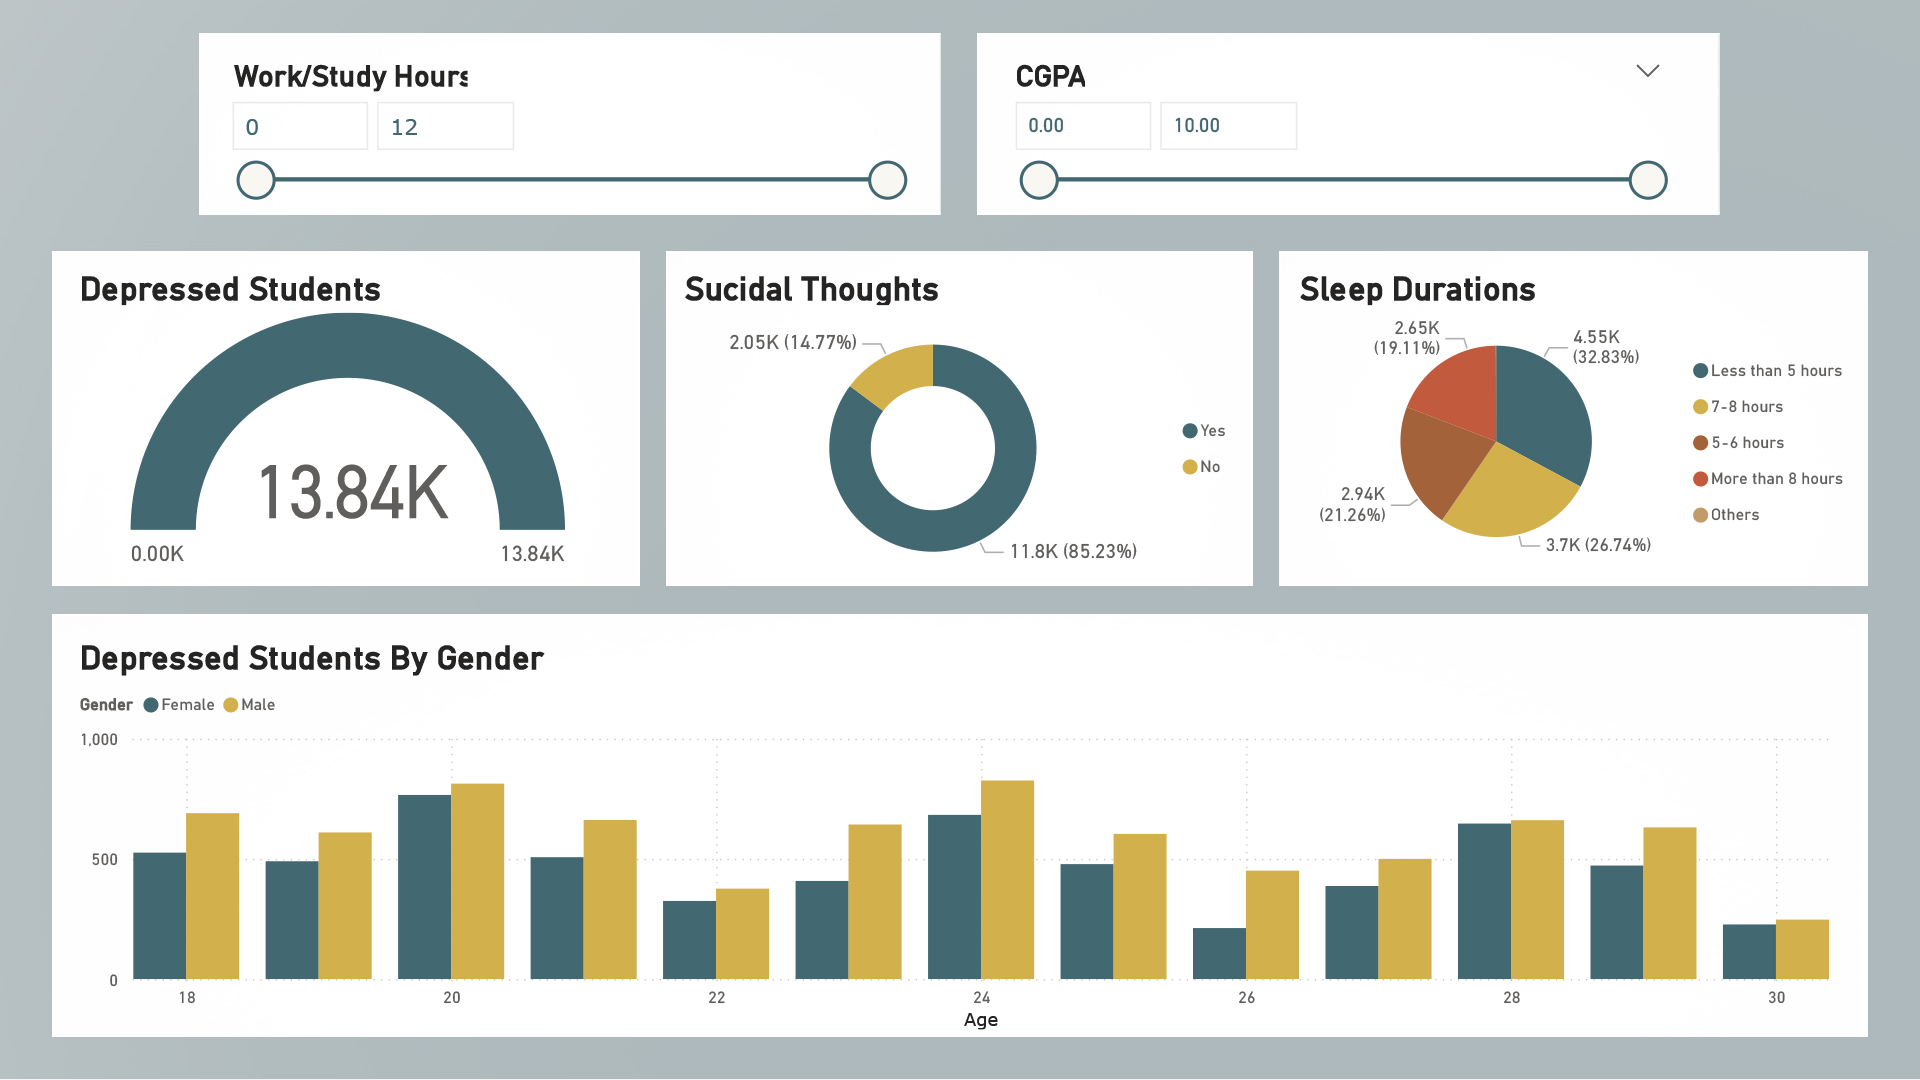

The dashboard page shown, as its layout file describes it:
{"tool":"powerbi","page":{"name":"Page 1","canvas":[1280,720],"ordinal":0},"visuals":[{"type":"clusteredColumnChart","title":"Depressed Students By Gender","fields":{"Category":["Student Depression Dataset (2).Age"],"Y":["CountNonNull(Student Depression Dataset (2).Depression)"],"Series":["Student Depression Dataset (2).Gender"]},"box":[49.8,426.3,1172.7,263.6],"z":0},{"type":"pieChart","title":"Sleep Durations","fields":{"Y":["CountNonNull(Student Depression Dataset (2).Depression)"],"Category":["Student Depression Dataset (2).Sleep Duration"]},"box":[860.7,180.2,380.6,204.4],"z":1000},{"type":"slicer","fields":{"Values":["Student Depression Dataset (2).CGPA"]},"box":[664.3,35,453.2,152],"z":2000},{"type":"slicer","fields":{"Values":["Student Depression Dataset (2).Work/Study Hours"]},"box":[143.9,35,469.3,152],"z":3000},{"type":"gauge","title":"Depressed Students","fields":{"Y":["CountNonNull(Student Depression Dataset (2).Depression)"],"MaxValue":["Student Depression Dataset (2).county"]},"box":[49.8,180.2,367.1,204.4],"z":4000},{"type":"donutChart","title":"Sucidal Thoughts","fields":{"Y":["CountNonNull(Student Depression Dataset (2).Have you ever had suicidal thoughts ?)"],"Category":["Student Depression Dataset (2).Have you ever had suicidal thoughts ?"]},"box":[451.9,180.2,379.2,213.8],"z":5000}]}

Visuals, with their boxes in screenshot pixels (x1, y1, x2, y2), scaled from the page's 1280x720 canvas onto the 1920x1080 screenshot:
"Depressed Students By Gender" clusteredColumnChart: [75,639,1834,1035]
"Sleep Durations" pieChart: [1291,270,1862,577]
slicer - Student Depression Dataset (2).CGPA: [996,52,1676,280]
slicer - Student Depression Dataset (2).Work/Study Hours: [216,52,920,280]
"Depressed Students" gauge: [75,270,625,577]
"Sucidal Thoughts" donutChart: [678,270,1247,591]
